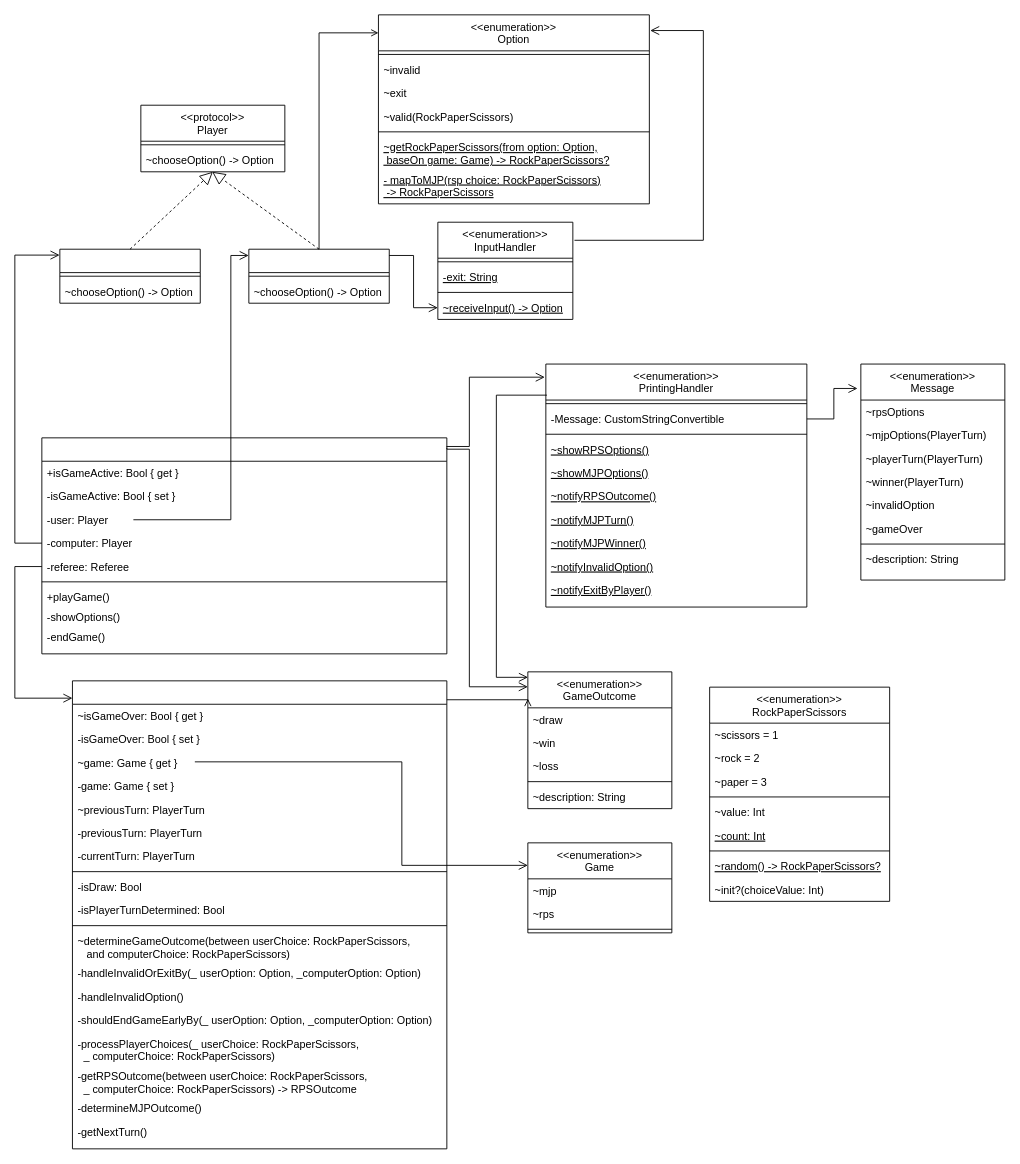
Image size: 1020x1164. Some labels were removed from this diagram. The box of each missing label's shape, as (x1, y1, x2, y2) in pixels:
Computer: (59, 248, 200, 303)
GameManager: (41, 437, 447, 654)
Referee: (72, 680, 447, 1149)
User: (248, 248, 389, 303)
